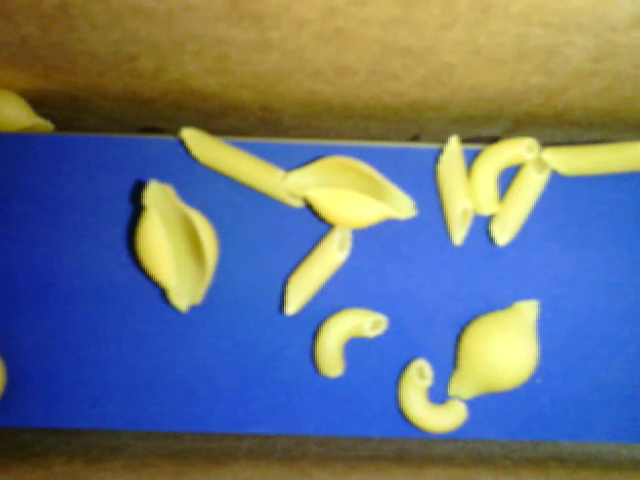elbow: (393, 357, 471, 439), (472, 132, 539, 218), (315, 308, 388, 381)
penne: (175, 122, 304, 210), (485, 146, 552, 251), (284, 216, 353, 314), (436, 131, 473, 251), (544, 140, 639, 178)
shell: (131, 178, 222, 314), (282, 156, 416, 233), (447, 296, 541, 401), (1, 87, 57, 132)
